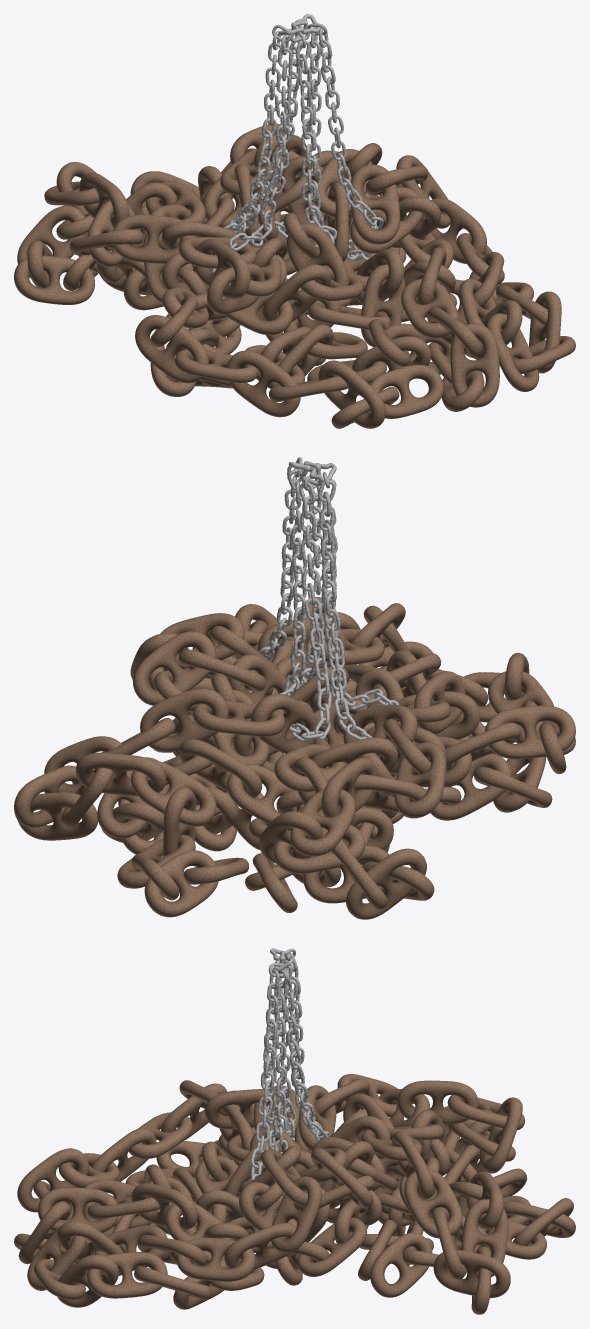
The model's file is HeavyChains.fbx.
3 renders of one model, top to bottom at view 1: azimuth 30°, elevation 25°; view 2: azimuth 150°, elevation 25°; view 3: azimuth 270°, elevation 25°, orthographic. The views are drawn at different scales.
Visible parts, largest first — view 1: Chain.049, Chain.010, Chain.100, Chain.011, Chain.088, Chain.008, Chain.009, Chain.134, Chain.039, Chain.056, Chain.050, Chain.127 (+70 smaller); view 2: Chain.063, Chain.030, Chain.018, Chain.031, Chain.119, Chain.015, Chain.033, Chain.132, Chain.116, Chain.123, Chain.016, Chain.037 (+60 smaller); view 3: Chain.102, Chain.073, Chain.036, Chain.035, Chain.065, Chain.087, Chain.110, Chain.068, Chain.009, Chain.024, Chain.083, Chain.034 (+68 smaller).
Part boxes in pixels (x1,y1,x2,y2): Chain.049: (450, 323, 499, 407); Chain.010: (226, 350, 300, 417); Chain.100: (14, 255, 94, 304); Chain.011: (135, 315, 208, 383); Chain.088: (350, 164, 400, 244); Chain.008: (369, 364, 443, 418); Chain.009: (318, 360, 385, 428); Chain.134: (113, 215, 194, 263); Chain.039: (262, 264, 331, 321); Chain.056: (486, 313, 539, 391); Chain.050: (401, 278, 458, 338); Chain.127: (194, 238, 250, 298); Chain.063: (133, 631, 216, 705); Chain.030: (485, 705, 575, 759); Chain.018: (140, 688, 228, 751); Chain.031: (144, 850, 218, 917); Chain.119: (346, 848, 426, 919); Chain.015: (75, 752, 166, 796); Chain.033: (131, 760, 216, 826); Chain.132: (394, 742, 446, 818); Chain.116: (290, 789, 355, 856); Chain.123: (179, 739, 262, 797); Chain.016: (18, 792, 98, 840); Chain.037: (193, 701, 284, 736); Chain.102: (370, 1232, 432, 1297); Chain.073: (87, 1252, 167, 1298); Chain.036: (404, 1169, 462, 1238); Chain.035: (433, 1249, 510, 1298); Chain.065: (176, 1237, 255, 1281); Chain.087: (271, 1176, 321, 1253); Chain.110: (397, 1080, 478, 1124); Chain.068: (38, 1187, 118, 1232); Chain.009: (17, 1148, 88, 1212); Chain.024: (297, 1217, 367, 1276); Chain.083: (224, 1223, 296, 1269); Chain.034: (461, 1199, 508, 1277).
Bounding box in the file's own units: 1.87 × 1.5 × 2.6.
